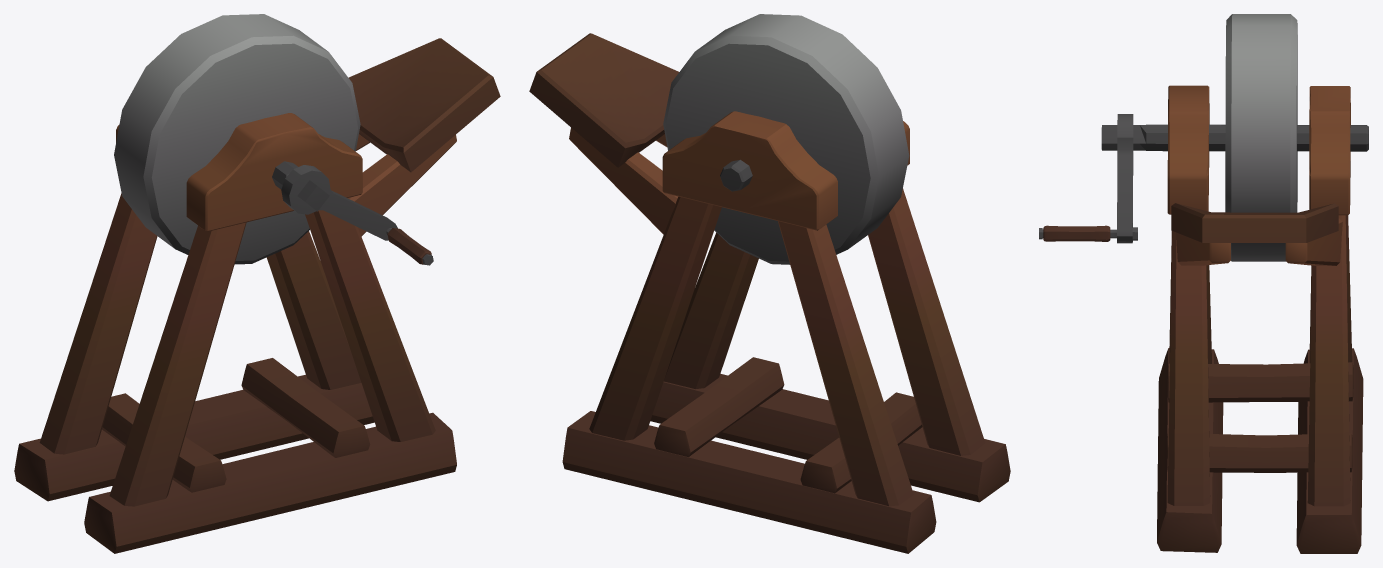
The model's file is Grinding_1.fbx.
3 views of the same model, side by side, from view 1: azimuth 30°, elevation 25°; view 2: azimuth 150°, elevation 25°; view 3: azimuth 270°, elevation 25° (orthographic).
Parts seen in each view (by area): view 1: Grinding_1; view 2: Grinding_1; view 3: Grinding_1.
Boxes of the visible parts, bbox=[...] form: Grinding_1: bbox=[14, 14, 500, 553]; Grinding_1: bbox=[529, 14, 1010, 553]; Grinding_1: bbox=[1039, 14, 1368, 553].
Size of the model in its own units: 90.65 by 95.42 by 64.13.
